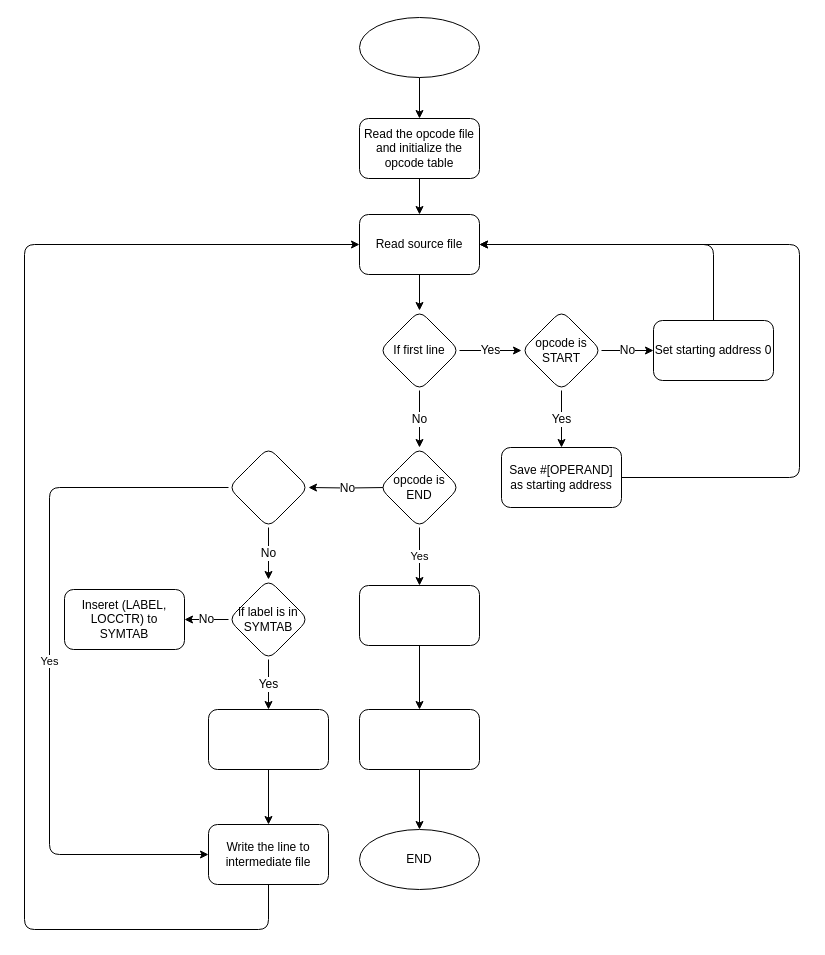
The diagram is 825 pixels wide and 955 high, and some of its shapes have lost their labels. Here are the shapes that lost their labels. From the top down, the centre of each, then its label:
(419,47): Start
(268,487): if a comment line
(419,615): Write last line to intermediate file
(268,739): Search OPTAB for opcode and calculate LOCCTR
(419,739): Output the SYMTAB
